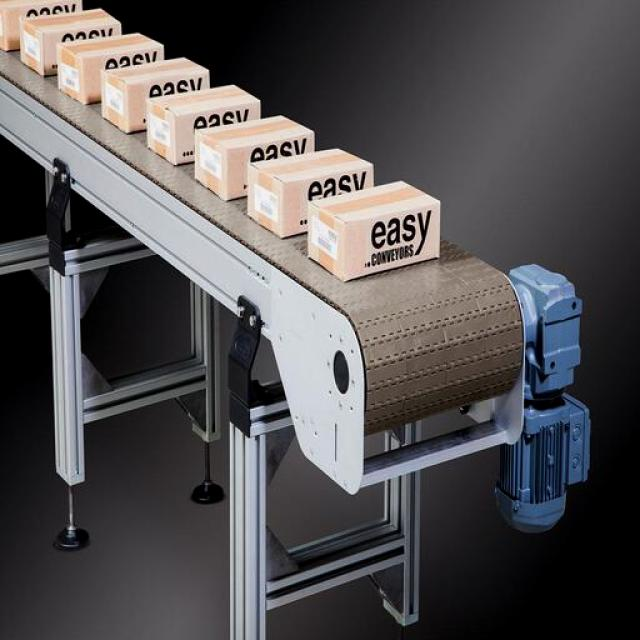conveyor: (0, 0, 525, 426)
